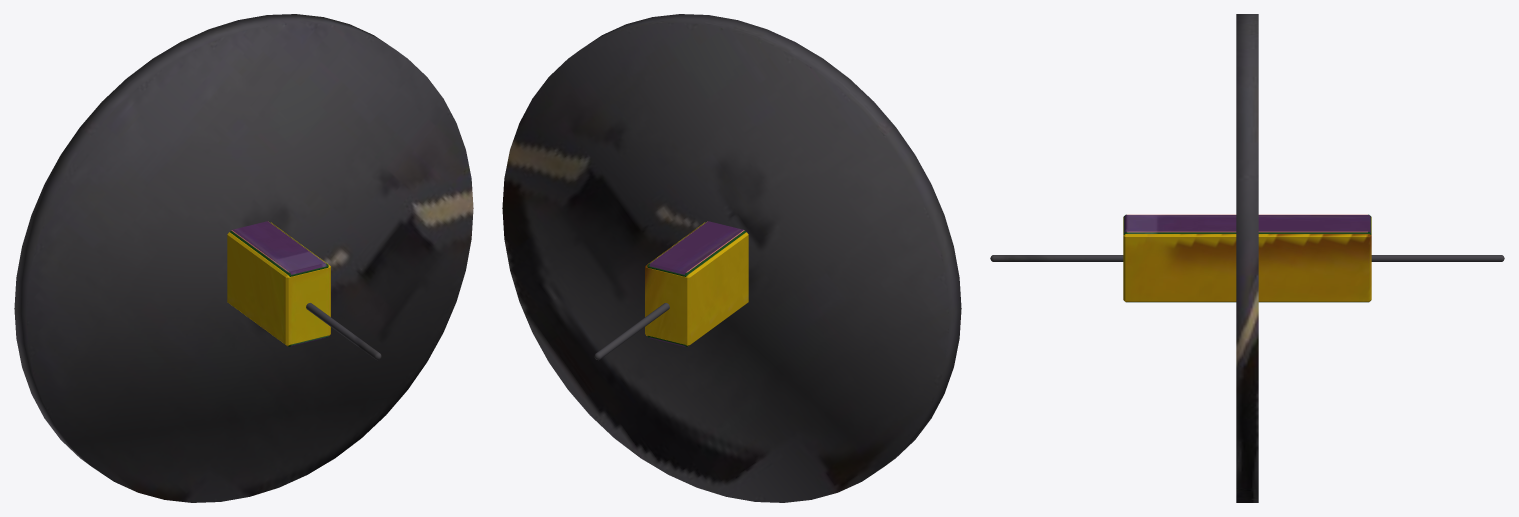
File: turntable-dominoes-textures.glb
3 views of the same model, side by side, from view 1: azimuth 30°, elevation 25°; view 2: azimuth 150°, elevation 25°; view 3: azimuth 270°, elevation 25° (orthographic). The views are drawn at different scales.
Visible parts, largest first — view 1: platter, yellow_block, purple_block, wooden_stick; view 2: platter, yellow_block, purple_block, wooden_stick; view 3: yellow_block, platter, purple_block, wooden_stick, green_block, pink_block.
Boxes of the visible parts, x1,y1,x2,y2 form: platter: (14, 14, 473, 502); yellow_block: (227, 222, 330, 346); purple_block: (232, 221, 326, 346); wooden_stick: (306, 303, 381, 360); platter: (502, 14, 961, 502); yellow_block: (645, 222, 748, 346); purple_block: (649, 221, 743, 346); wooden_stick: (594, 303, 669, 360); yellow_block: (1123, 217, 1371, 301); platter: (1236, 14, 1258, 502); purple_block: (1124, 215, 1370, 232); wooden_stick: (990, 255, 1504, 261); green_block: (1123, 214, 1371, 302); pink_block: (1127, 214, 1367, 232).
Bounding box in the file's own units: 0.1736 × 0.1736 × 0.1823.
10 materials, 10 textured.
